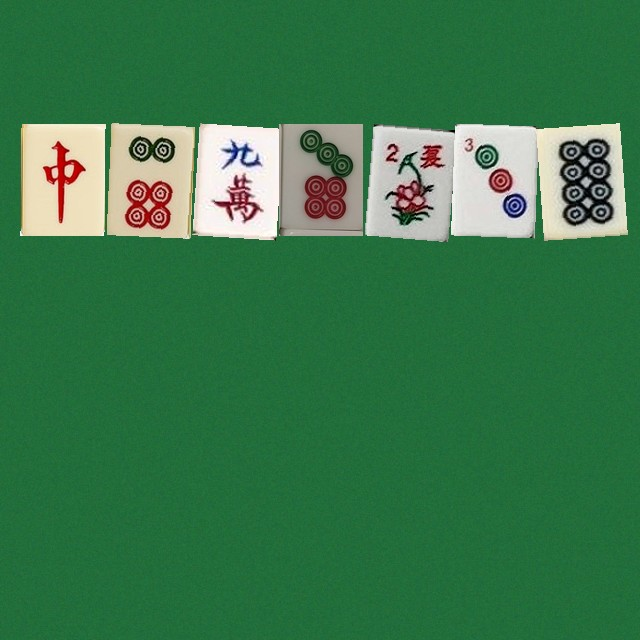tile: (20, 123, 104, 235), (106, 123, 190, 235), (192, 123, 276, 235), (278, 123, 362, 235), (364, 123, 448, 235), (450, 123, 534, 235), (536, 123, 620, 235)
